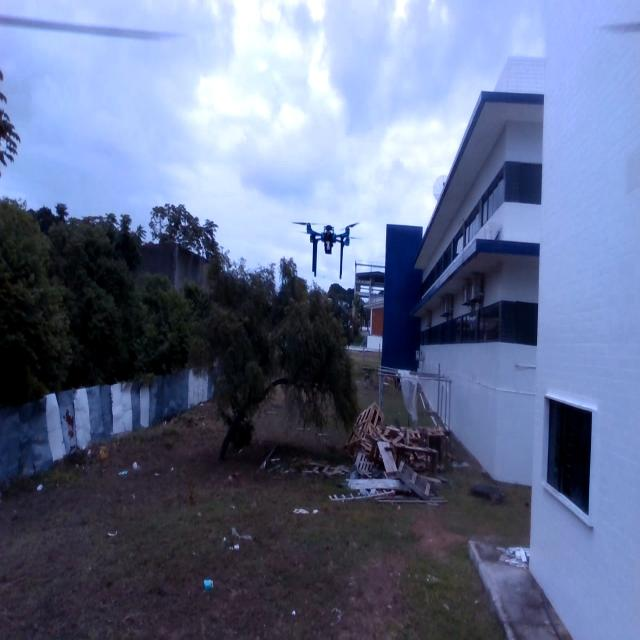-uav-: (288, 201, 368, 286)
